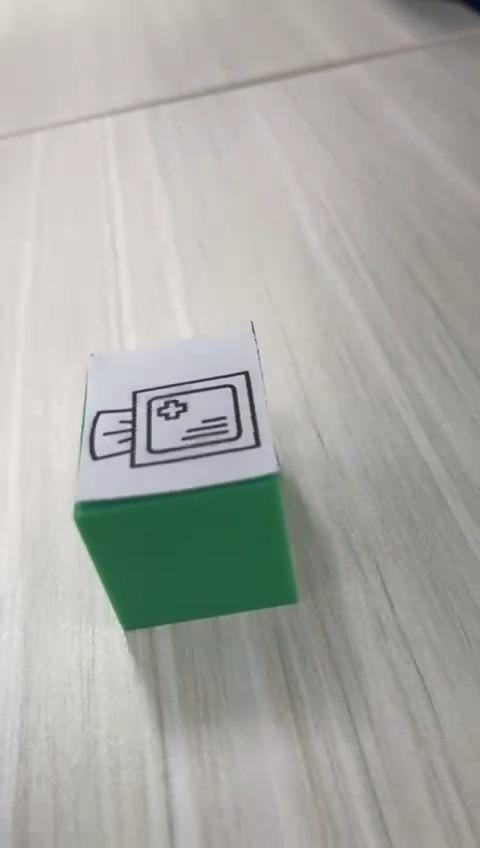Gauze: (72, 319, 299, 631)
